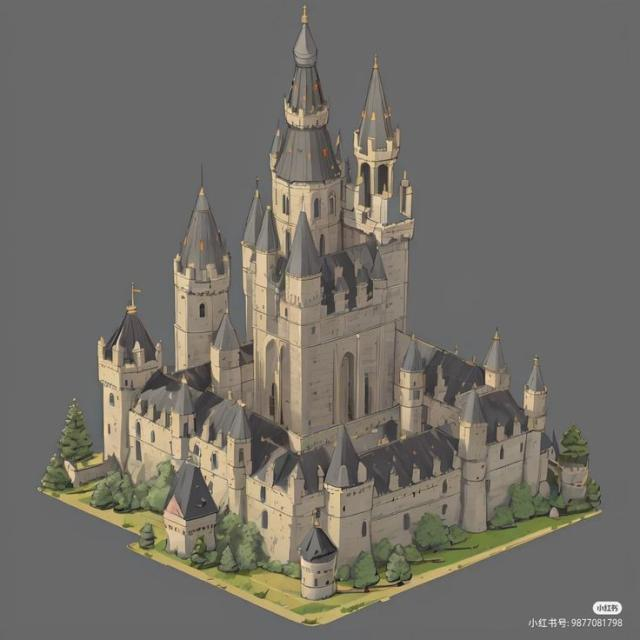castle: (14, 5, 623, 592)
